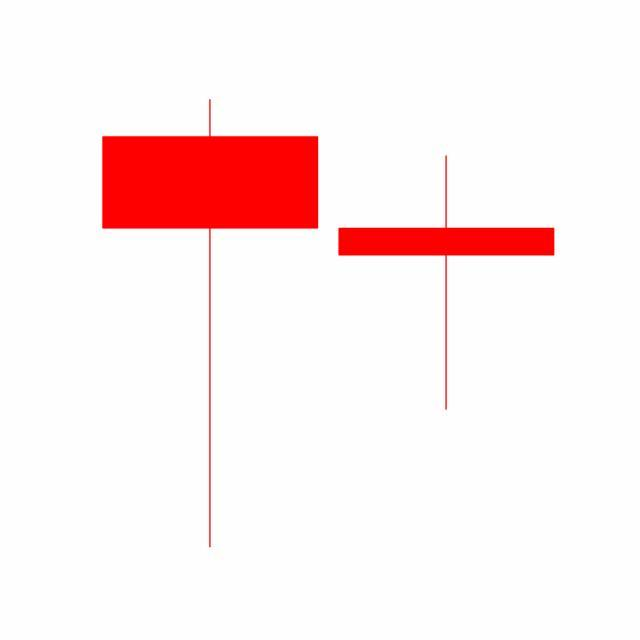Spinning Top: (328, 153, 566, 413)
